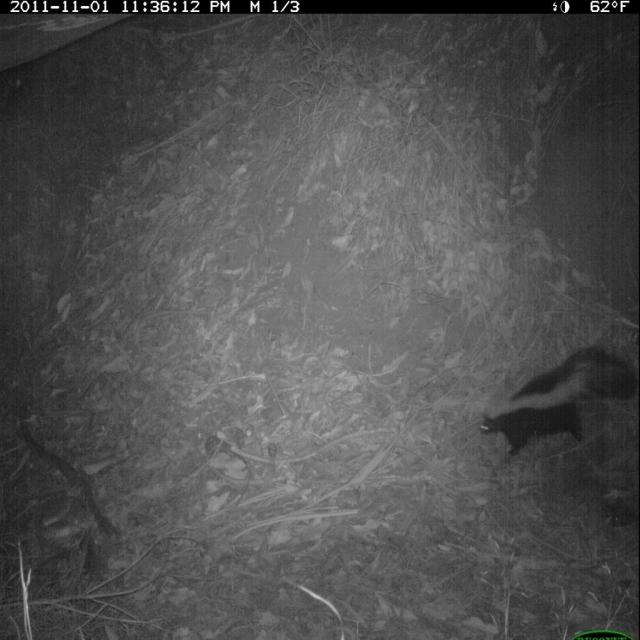skunk: (482, 350, 638, 468)
